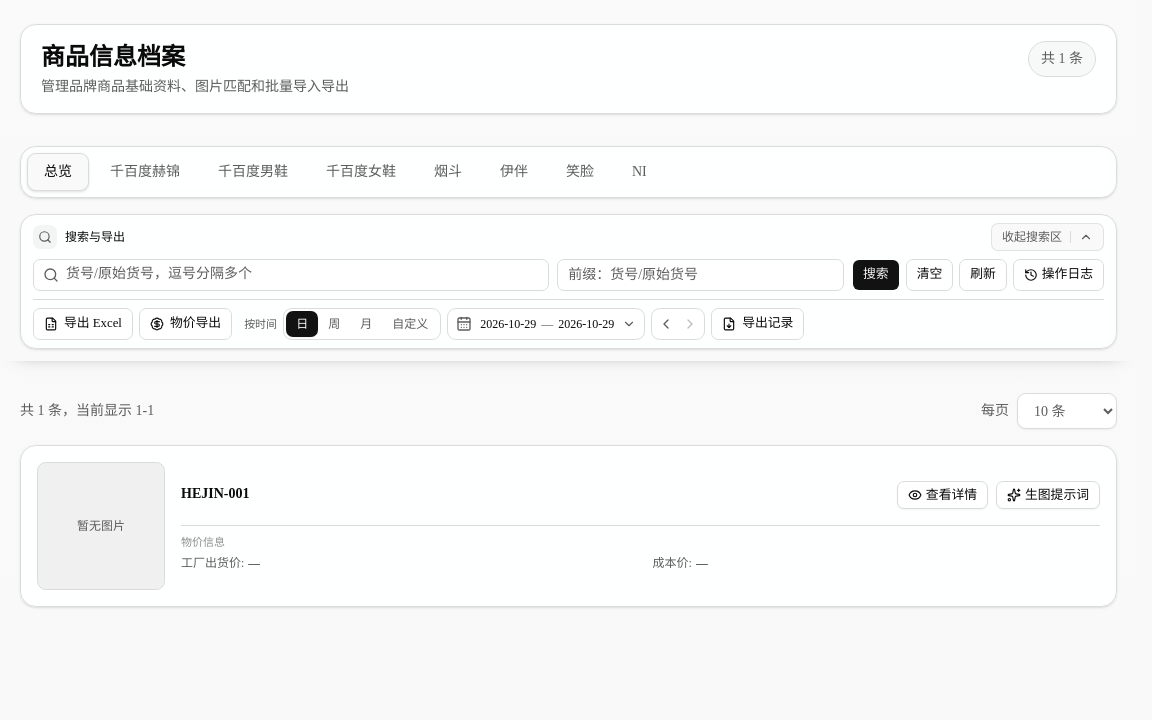
a new product archive brand is selectable and shows its name in product details
The image size is (1152, 720).
Click the tab "千百度赫锦" at (145, 172), box [93,153,197,191]
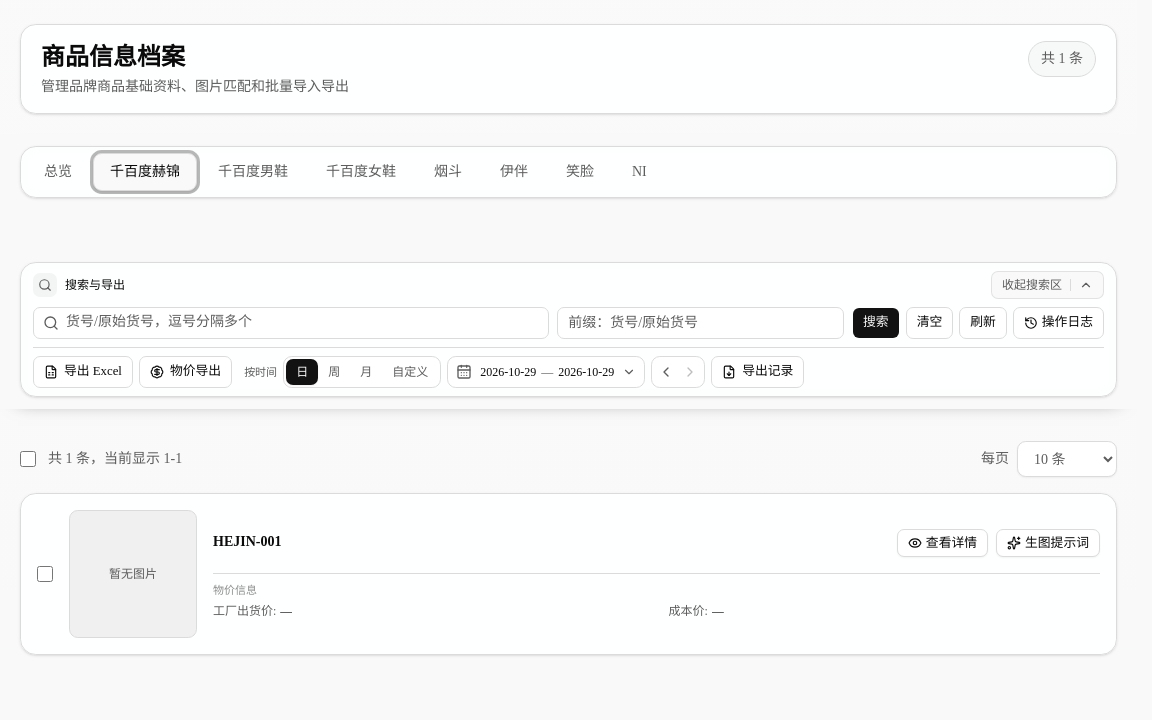
Click the button "查看详情" at (942, 543), box [897,529,988,557]
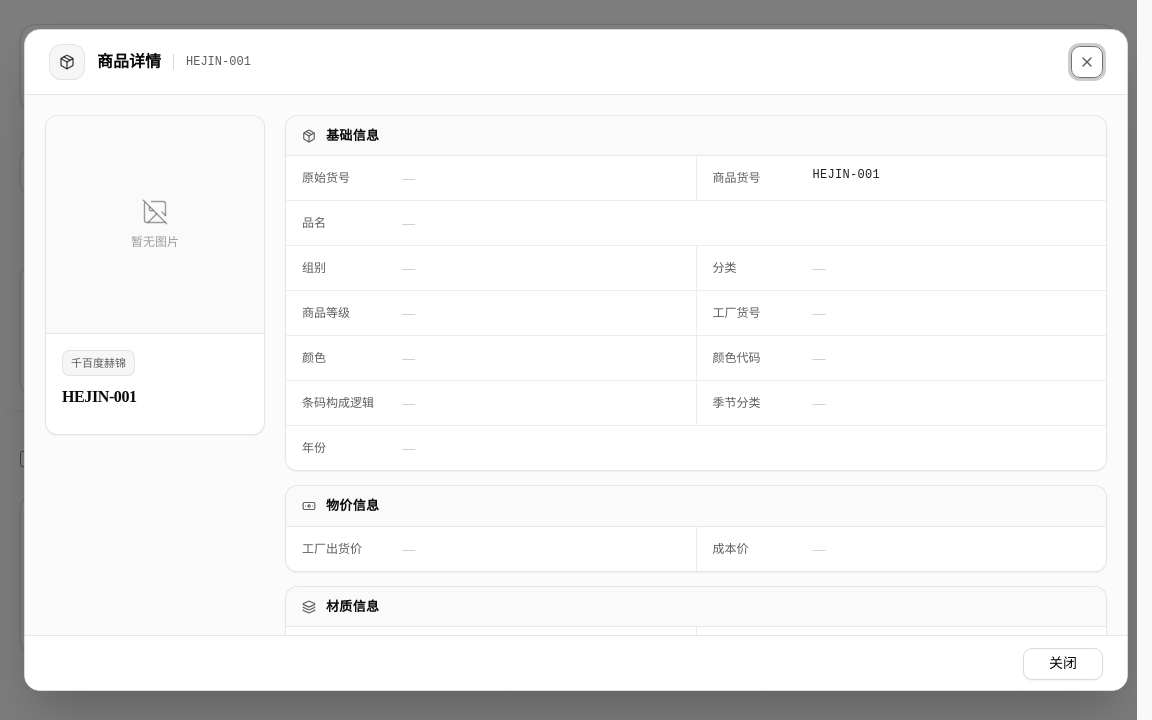
Check: the text "千百度赫锦" is shown, box [62,350,135,376]
